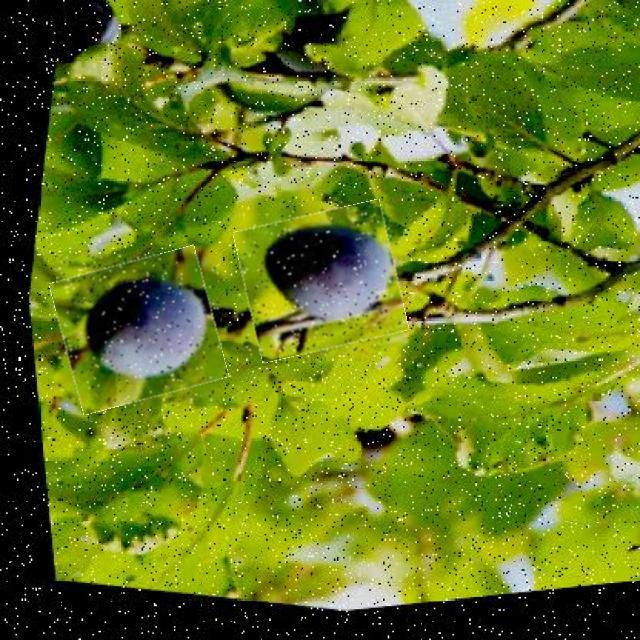plum: (56, 254, 222, 406), (239, 207, 403, 355)
